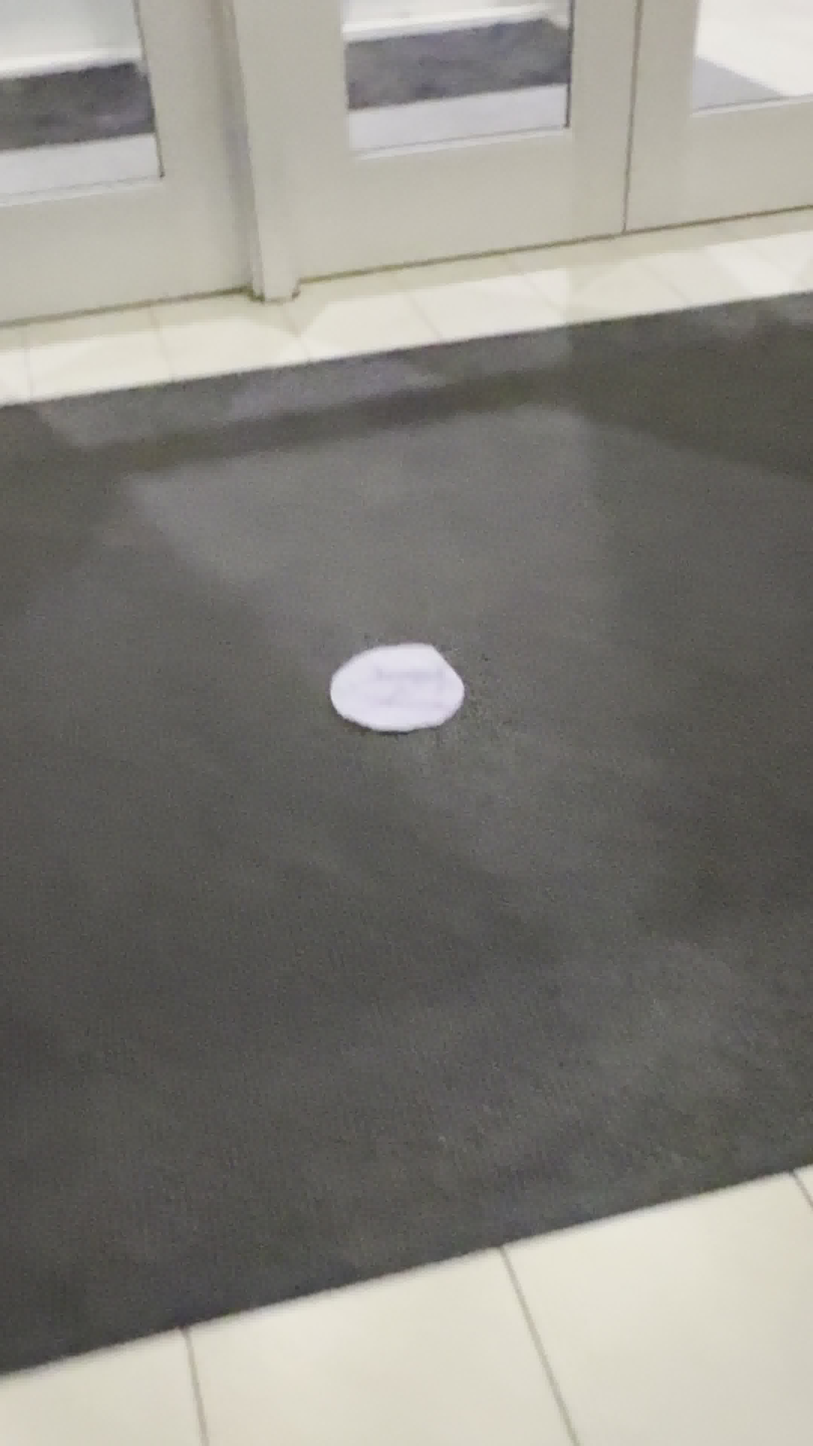Target: (331, 643, 464, 733)
